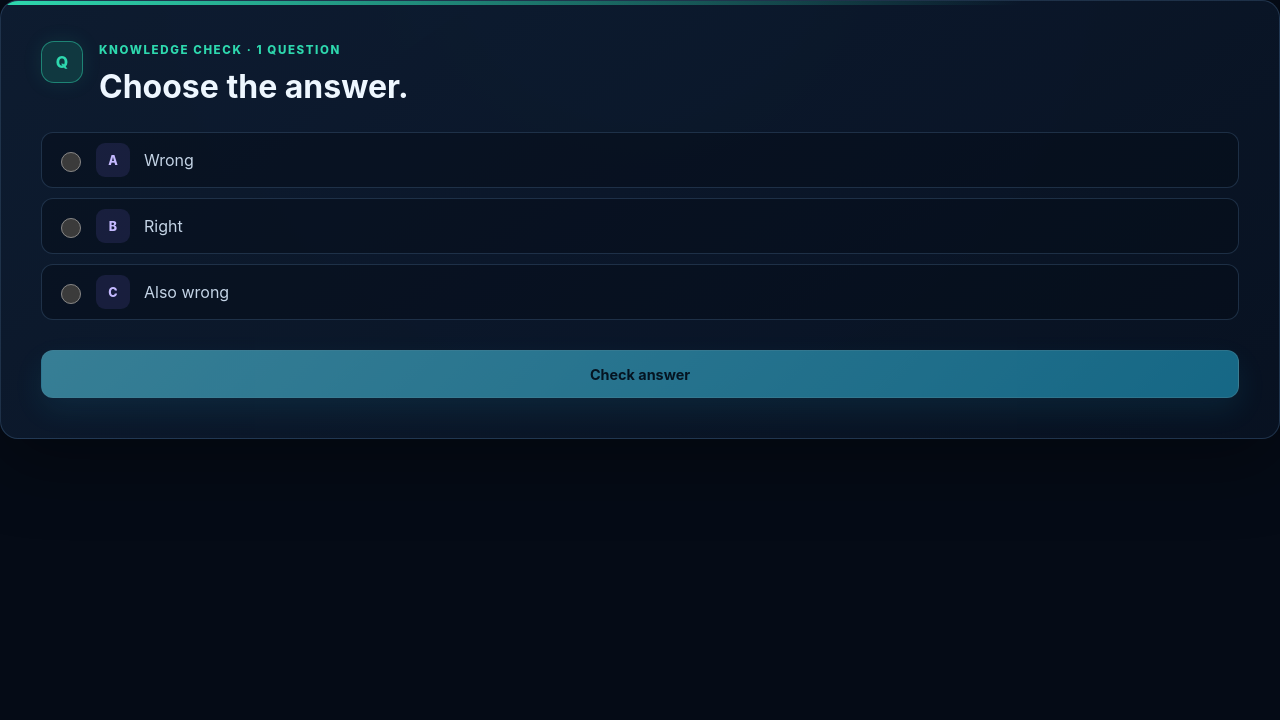
Test case: StudyPanel › announces quiz feedback, identifies choices, and resets
The image size is (1280, 720).
Expected: the button "Check answer" is disabled, [41,350,1239,398]
Step 1. Click the radio button labelled "A Wrong" → (71, 162), box [61,152,81,172]
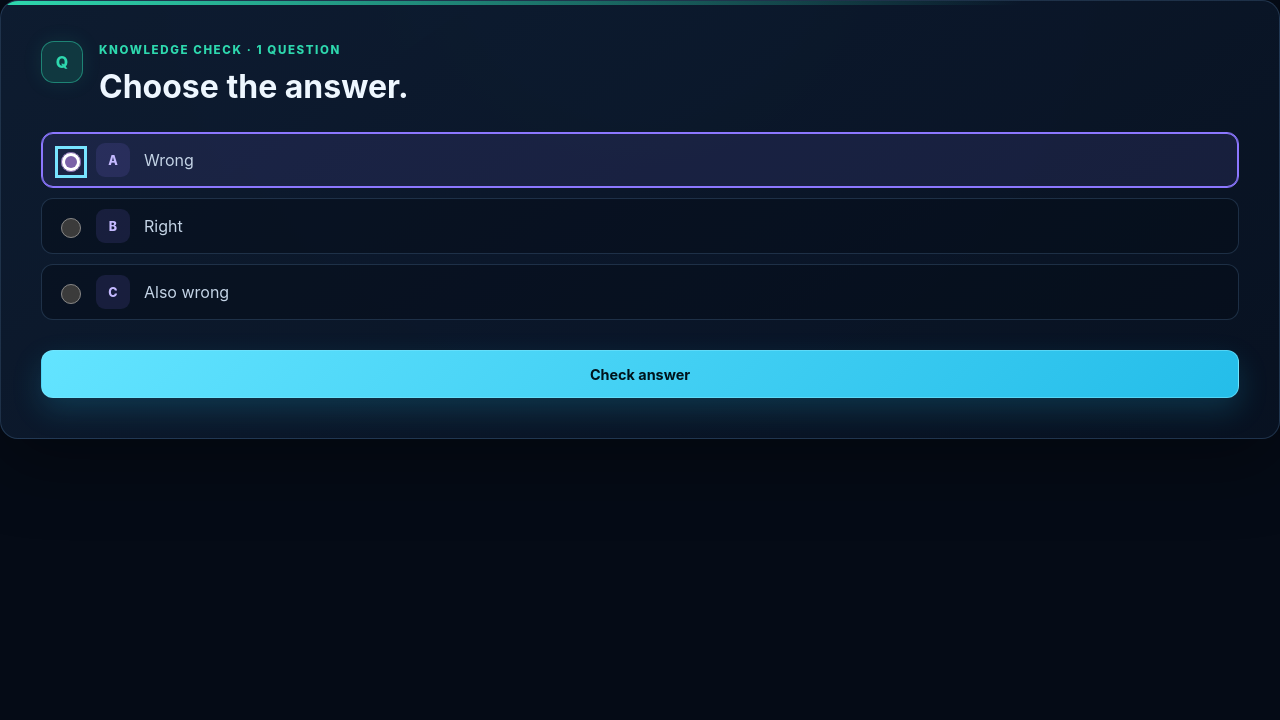
Step 2. Click the button "Check answer" → (640, 374), box [41,350,1239,398]
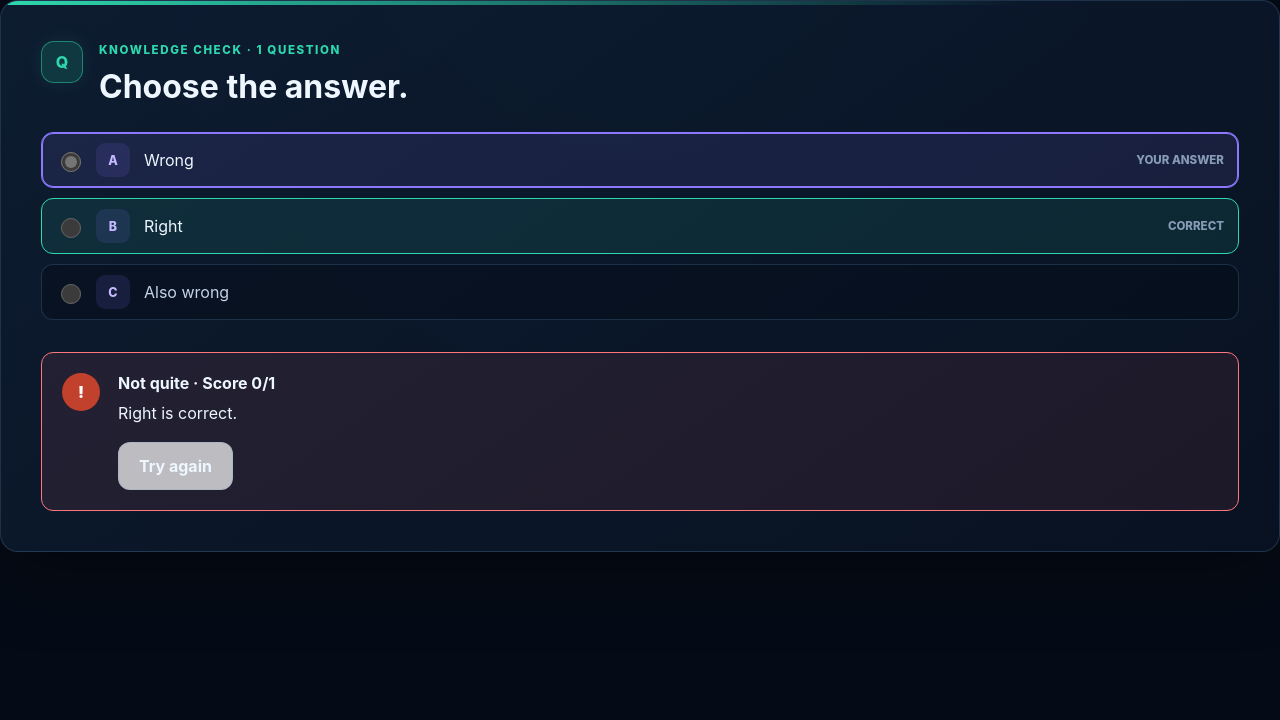
Now the message shows "Not quite · Score 0/1", box [118,373,275,393]
Now the text "Your answer" is shown, box [1136,153,1224,167]
Now the text "Correct" is shown, box [1168,219,1224,233]
Step 3. Click the button "Try again" → (176, 466), box [118,442,233,490]
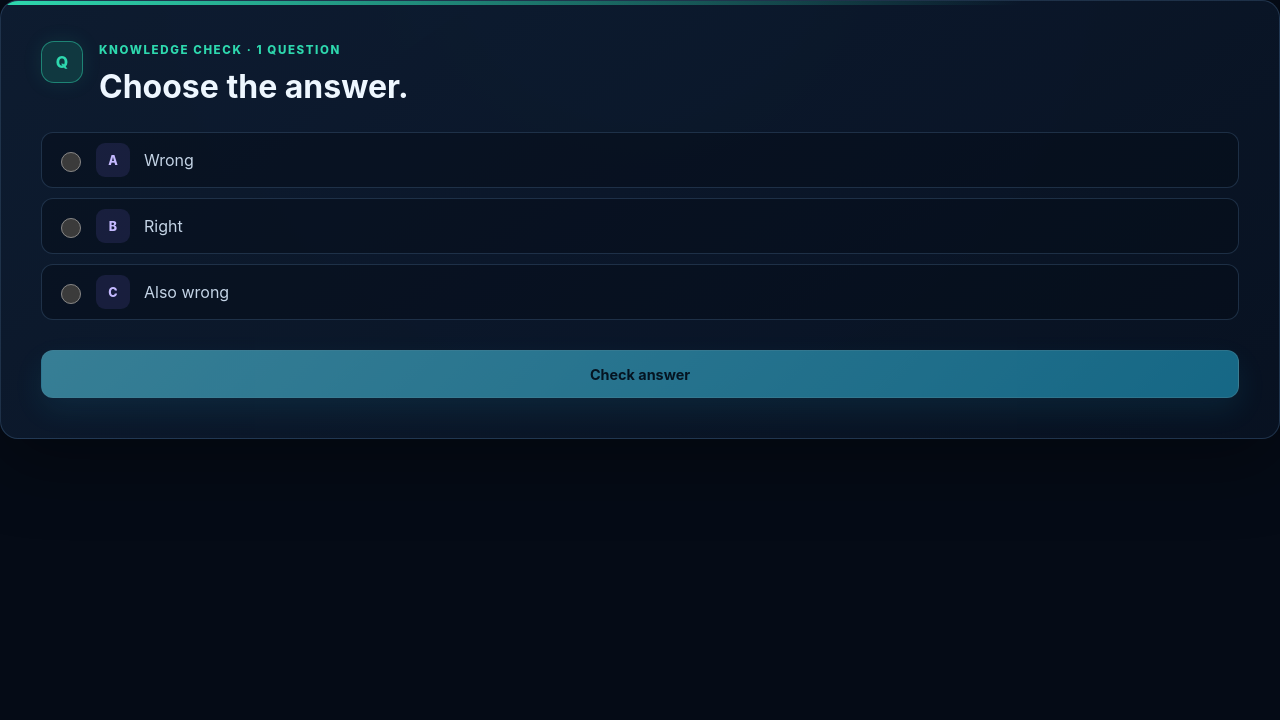
Now the button "Check answer" is disabled, box [41,350,1239,398]
